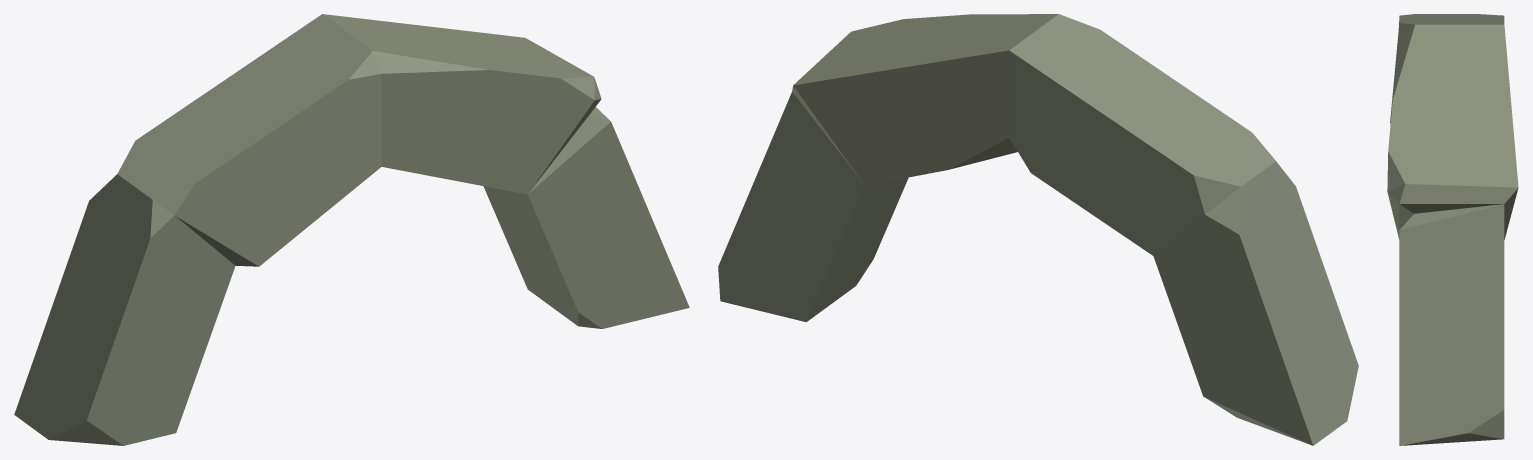
The model's file is door_arch_single_tiny.fbx.
3 views of the same model, side by side, from view 1: azimuth 30°, elevation 25°; view 2: azimuth 150°, elevation 25°; view 3: azimuth 270°, elevation 25° (orthographic). The views are drawn at different scales.
Visible parts, largest first — view 1: door_arch_single_tiny; view 2: door_arch_single_tiny; view 3: door_arch_single_tiny.
Part boxes in pixels (x1,y1,x2,y2): door_arch_single_tiny: [14, 14, 689, 445]; door_arch_single_tiny: [718, 14, 1358, 445]; door_arch_single_tiny: [1387, 14, 1518, 445].
Bounding box in the file's own units: 150 × 75.73 × 31.22.
